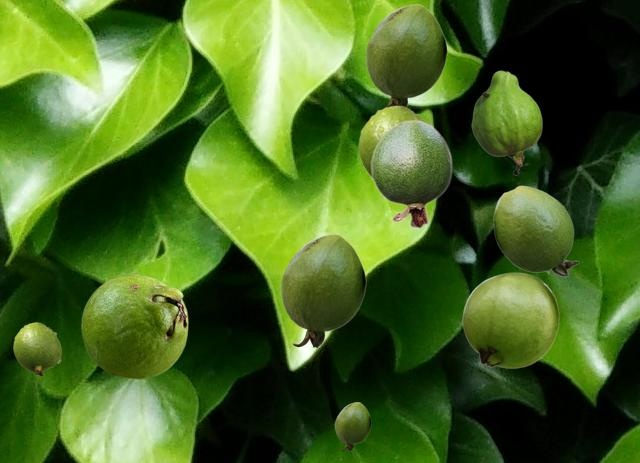guava: (81, 274, 187, 378), (281, 234, 365, 347), (462, 272, 558, 367), (370, 119, 452, 228), (366, 4, 446, 110), (493, 185, 578, 275), (471, 70, 541, 174), (358, 105, 431, 176), (13, 322, 60, 375), (335, 402, 370, 450)
